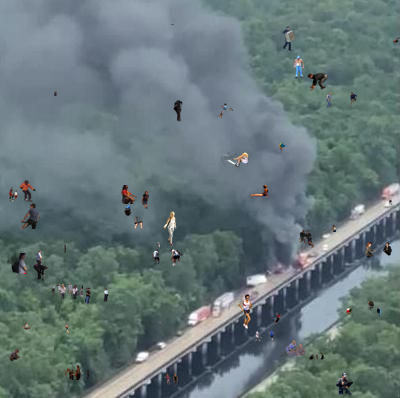Human: (307, 73, 337, 91), (141, 191, 169, 210), (50, 283, 83, 299), (152, 249, 183, 266), (238, 294, 253, 329), (7, 253, 32, 274), (20, 203, 40, 229), (219, 151, 249, 168), (85, 287, 115, 304), (123, 205, 144, 229), (163, 211, 177, 247), (326, 92, 357, 108), (277, 340, 306, 357), (364, 241, 392, 258), (33, 250, 48, 281), (336, 373, 355, 397), (65, 365, 90, 380), (19, 180, 36, 202), (282, 26, 296, 51), (121, 185, 138, 204), (298, 230, 315, 248), (293, 55, 305, 79), (173, 100, 183, 128), (250, 185, 272, 197), (255, 329, 274, 342), (272, 143, 288, 154), (164, 373, 178, 385), (216, 103, 227, 118), (9, 349, 21, 361), (9, 187, 18, 202), (309, 353, 325, 360), (64, 321, 71, 335), (275, 312, 281, 324), (344, 307, 353, 315), (22, 322, 31, 330), (368, 301, 374, 311), (392, 37, 400, 43), (377, 307, 381, 316), (331, 225, 336, 232), (170, 21, 175, 26), (228, 106, 233, 111), (54, 91, 58, 96), (158, 321, 162, 326), (389, 199, 392, 205), (157, 242, 160, 248), (64, 244, 66, 253)
